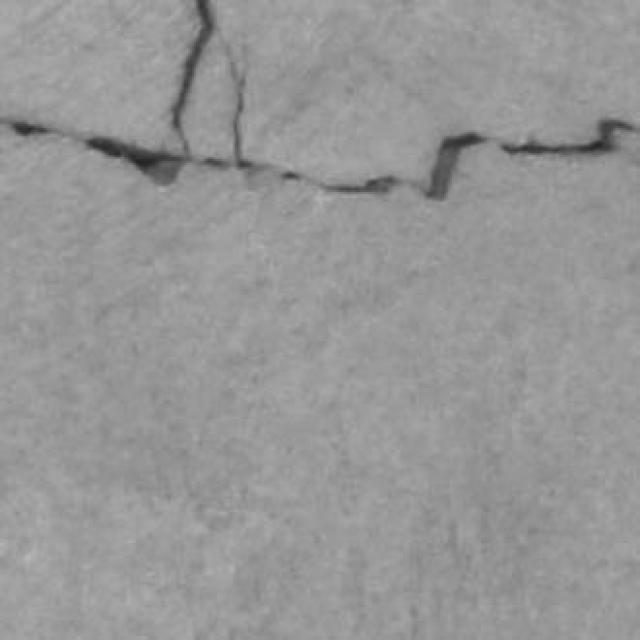crack: (0, 103, 638, 199), (171, 0, 215, 153), (501, 119, 636, 155), (84, 138, 186, 184), (220, 33, 250, 168), (425, 132, 484, 199)
